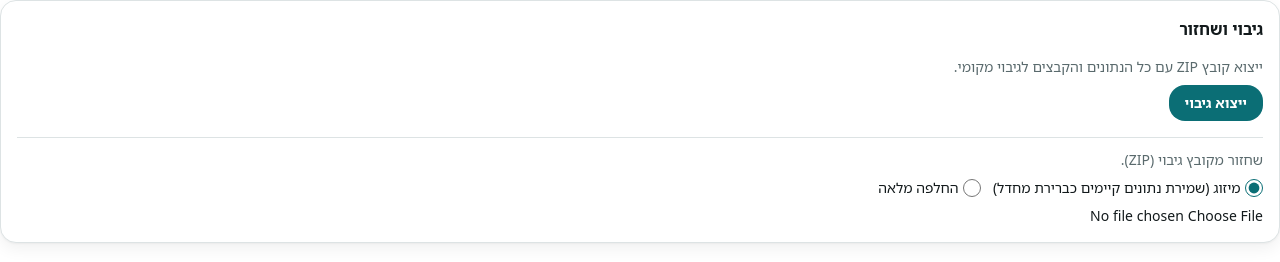
BackupSection › exports a backup and stamps lastBackupExportAt
Click the button "ייצוא גיבוי".
click(1216, 103)  # box [1168, 85, 1263, 121]
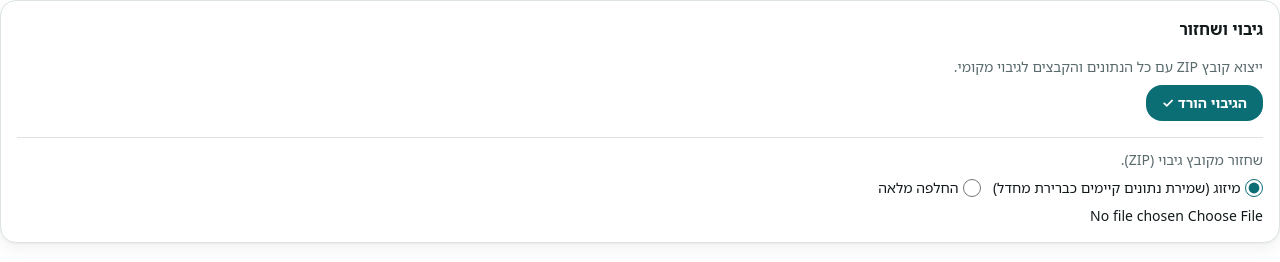
Check: the button "הגיבוי הורד ✓" is shown, box [1146, 85, 1263, 121]
